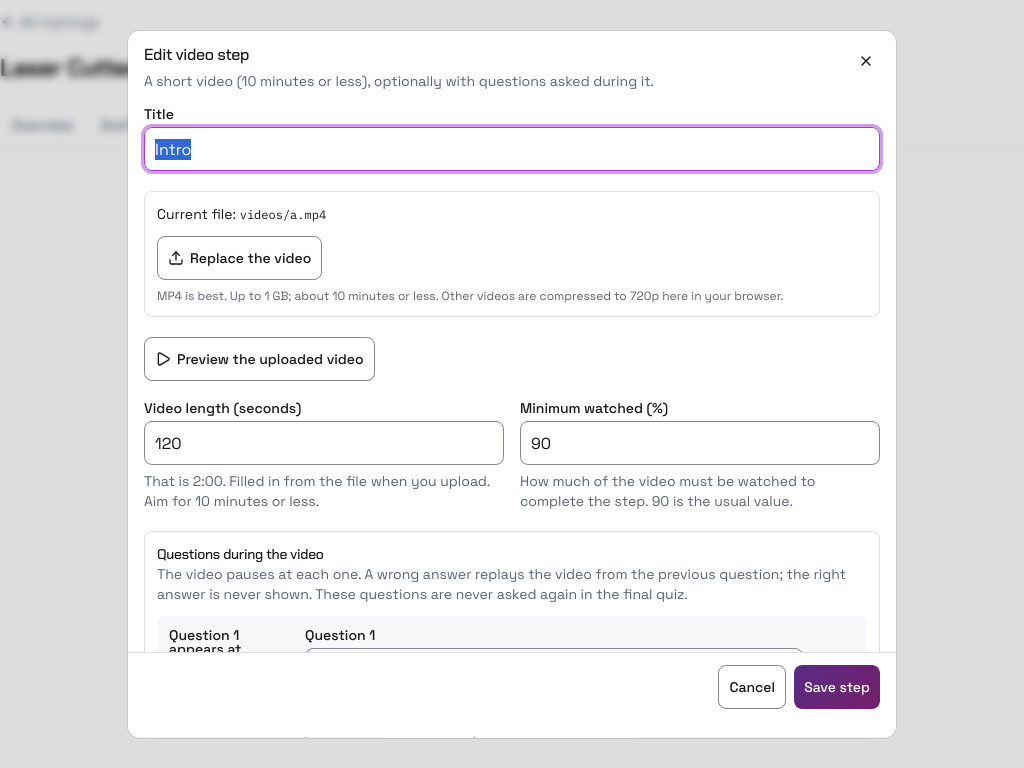
StepDialog video steps › shows the server’s checkpoint problem beside the checkpoint it names
Check: the heading "Laser Cutter" is shown, box [0,52,138,84]
What coordinates should you click on to do the following:
click the button "Save step"
I would click on:
 (837, 687)
Its box is [794,665,880,709].
(page scrolled)
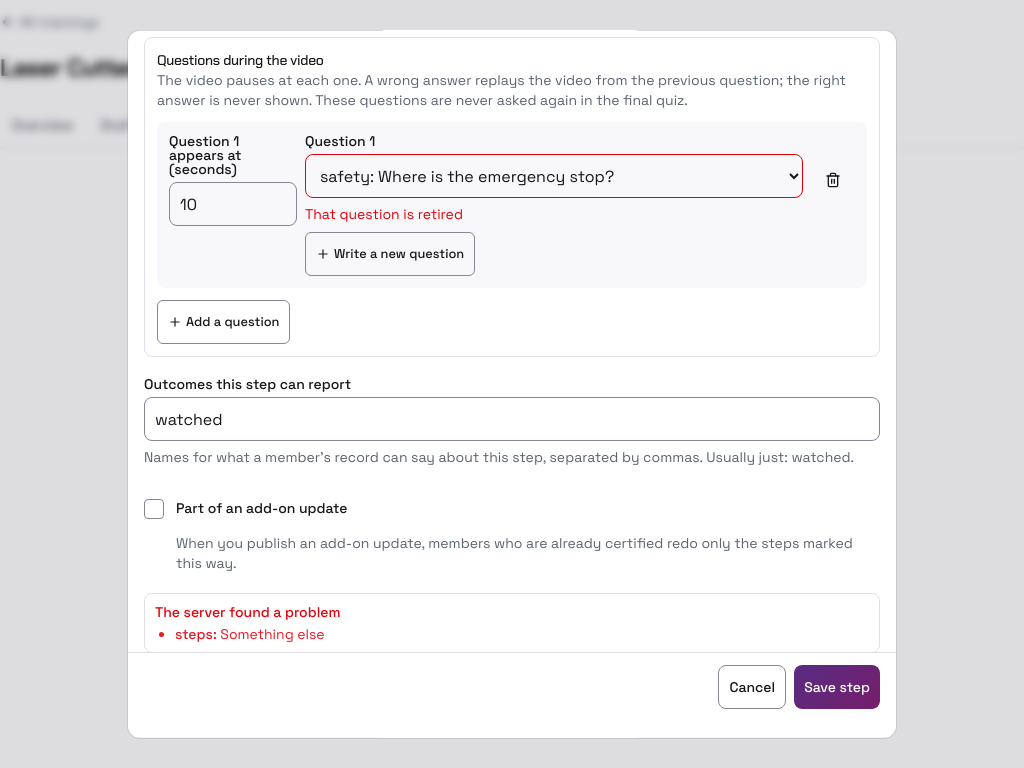
Check: the text "That question is retired" is shown, box [305,205,463,223]
Check: the text "The server found a problem" is shown, box [155,603,340,621]
Check: the list item "Something else" is shown, box [220,625,325,643]
